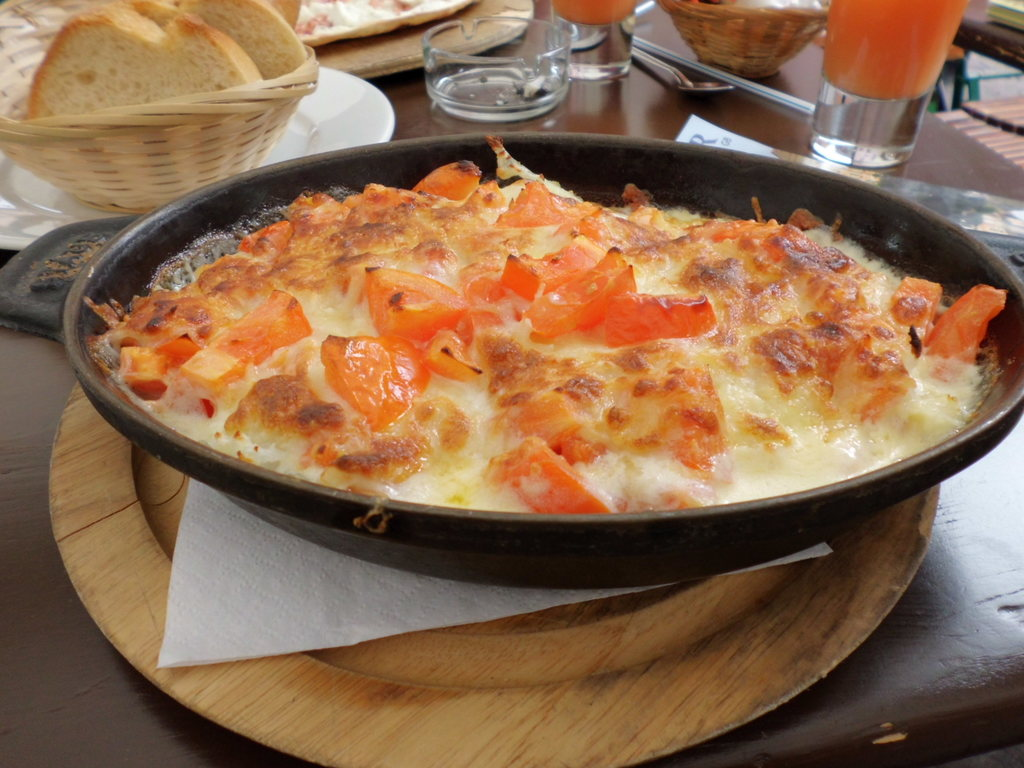Pizza: (115, 136, 1010, 522)
